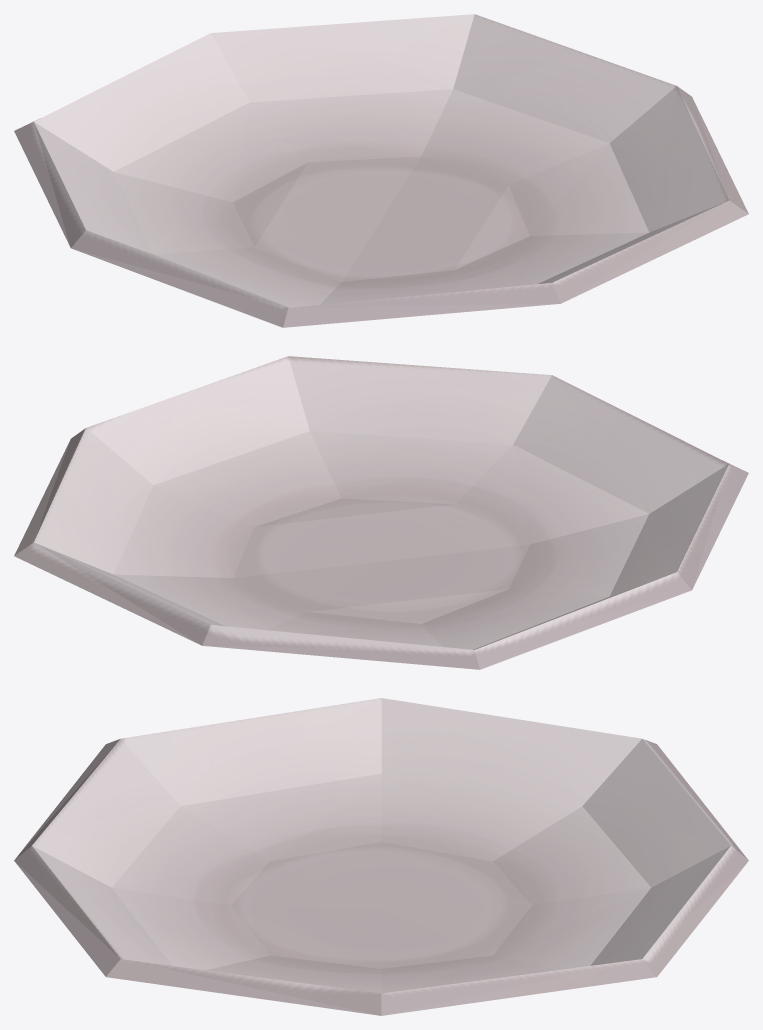
Rendered from other_dish.FBX.
3 renders of one model, top to bottom at view 1: azimuth 30°, elevation 25°; view 2: azimuth 150°, elevation 25°; view 3: azimuth 270°, elevation 25°, orthographic. The views are drawn at different scales.
Parts seen in each view (by area): view 1: other_dish; view 2: other_dish; view 3: other_dish.
Part boxes in pixels (x1,y1,x2,y2): other_dish: (14, 14, 748, 327); other_dish: (14, 356, 748, 669); other_dish: (14, 698, 748, 1015).
Size of the model in its own units: 253 by 32.43 by 253.
